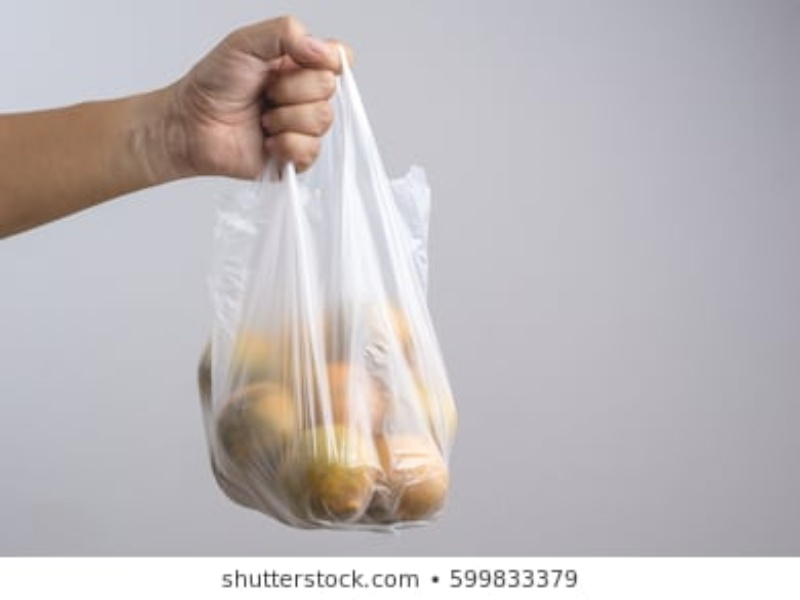plastic-bag: (193, 44, 458, 537)
